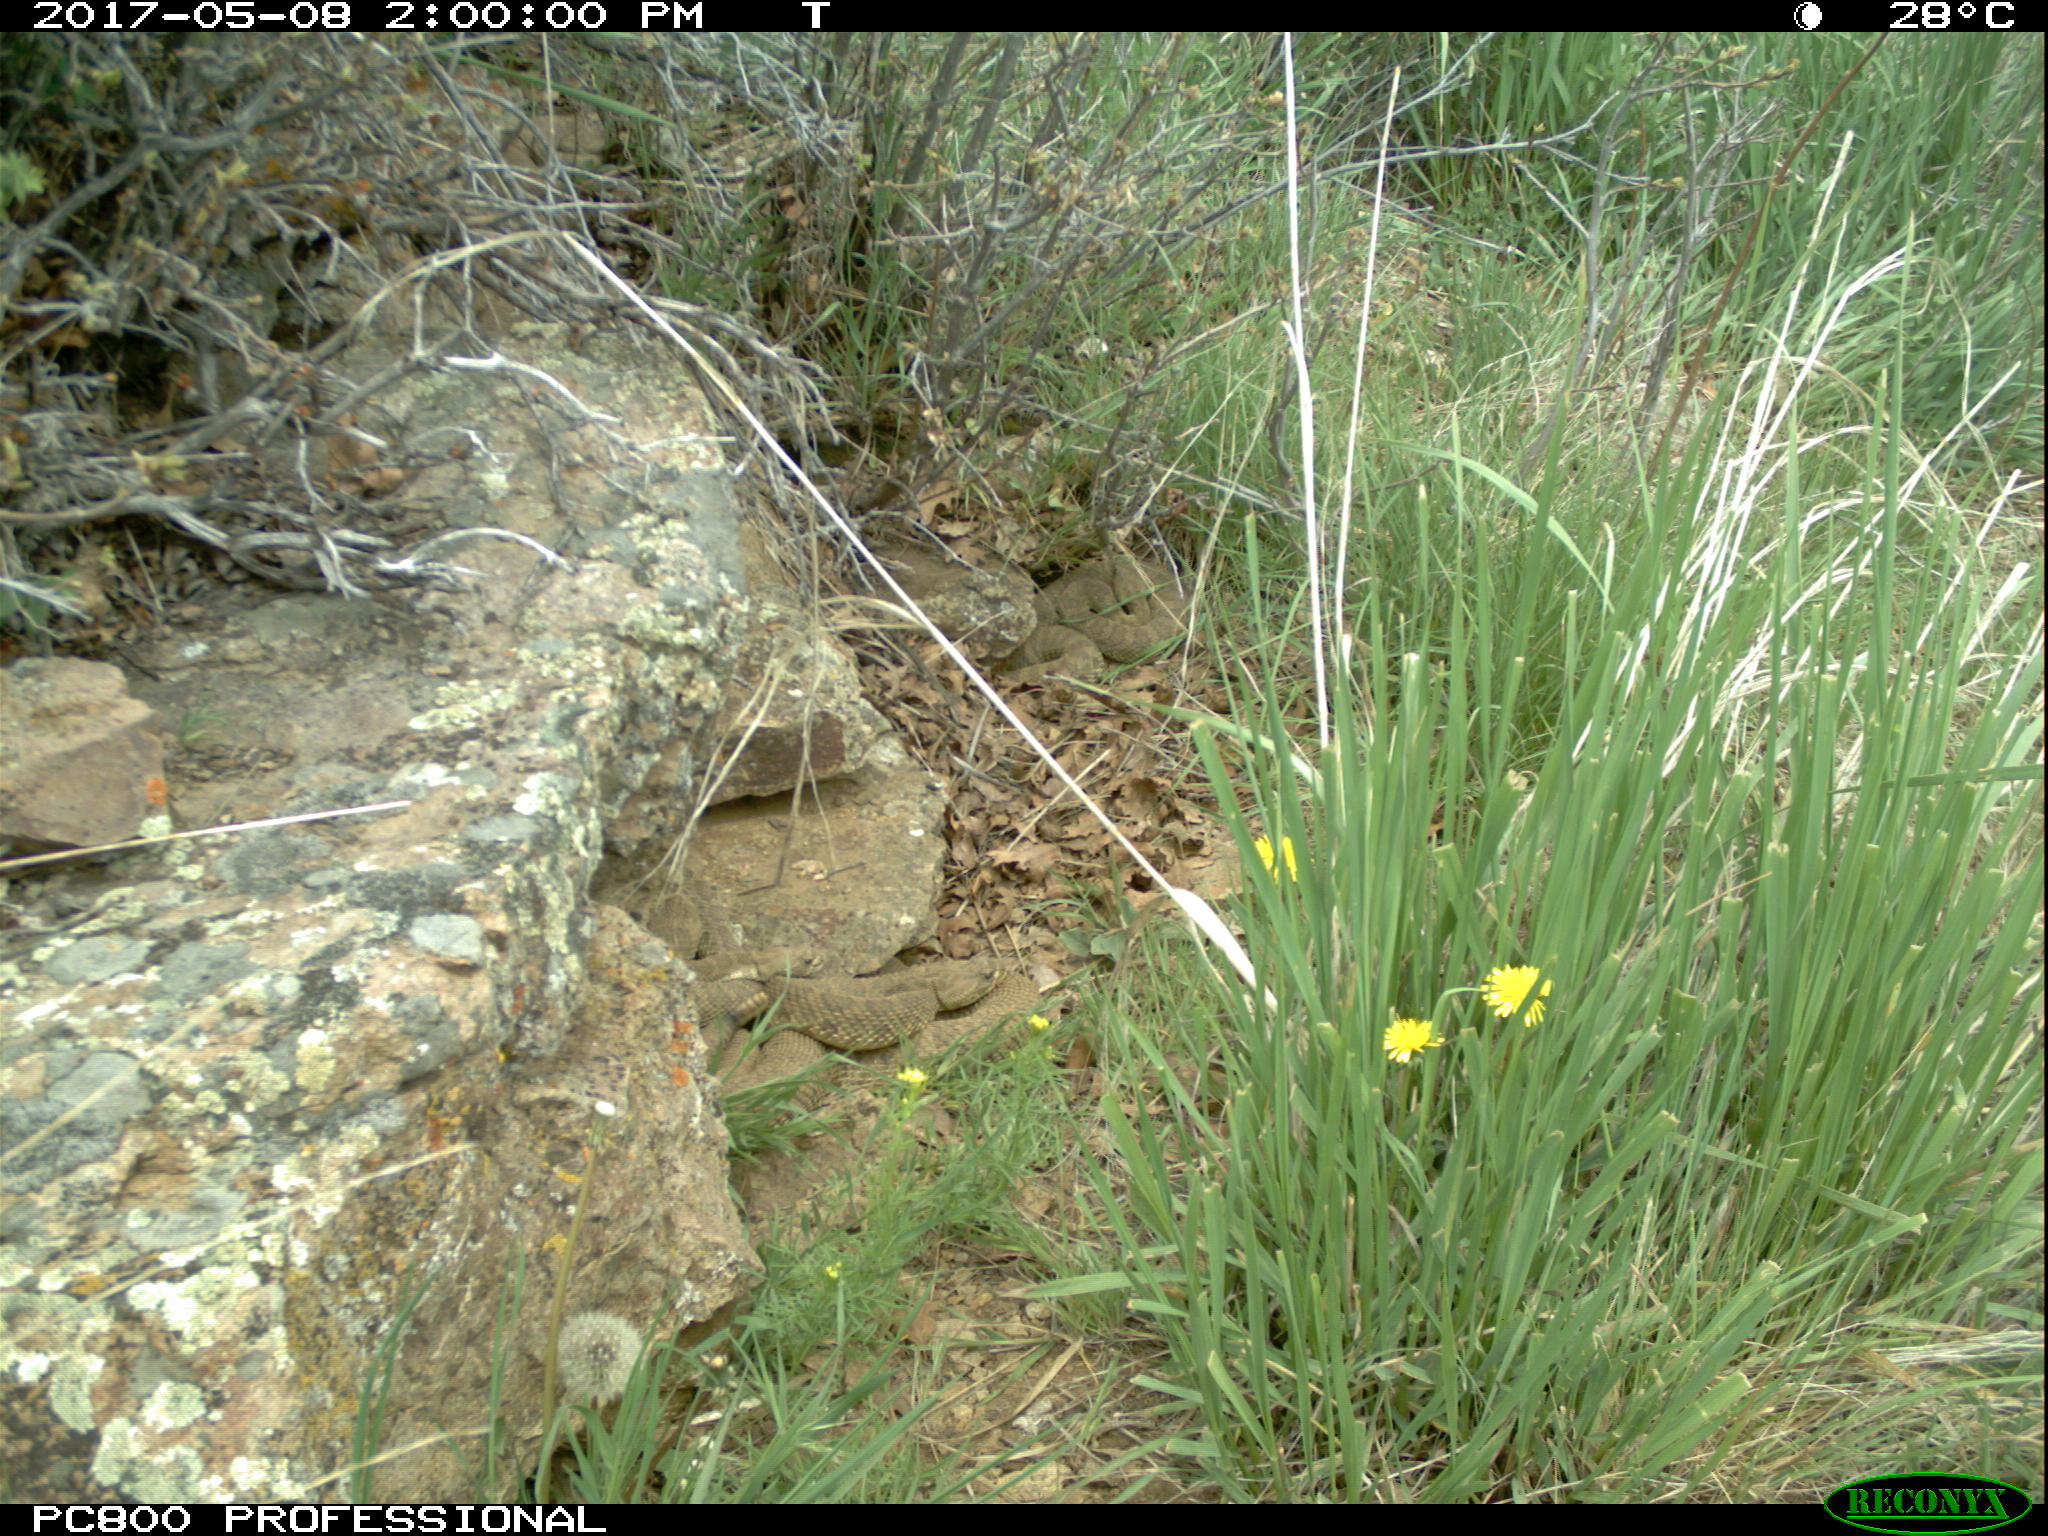snake: (677, 941, 1056, 1099), (1016, 553, 1219, 682)
